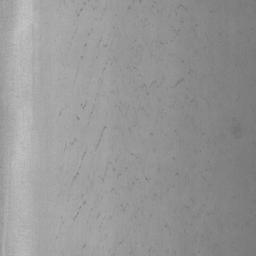Silk spot: (95, 126, 107, 152), (64, 138, 77, 152), (232, 123, 241, 138), (171, 78, 184, 88)
